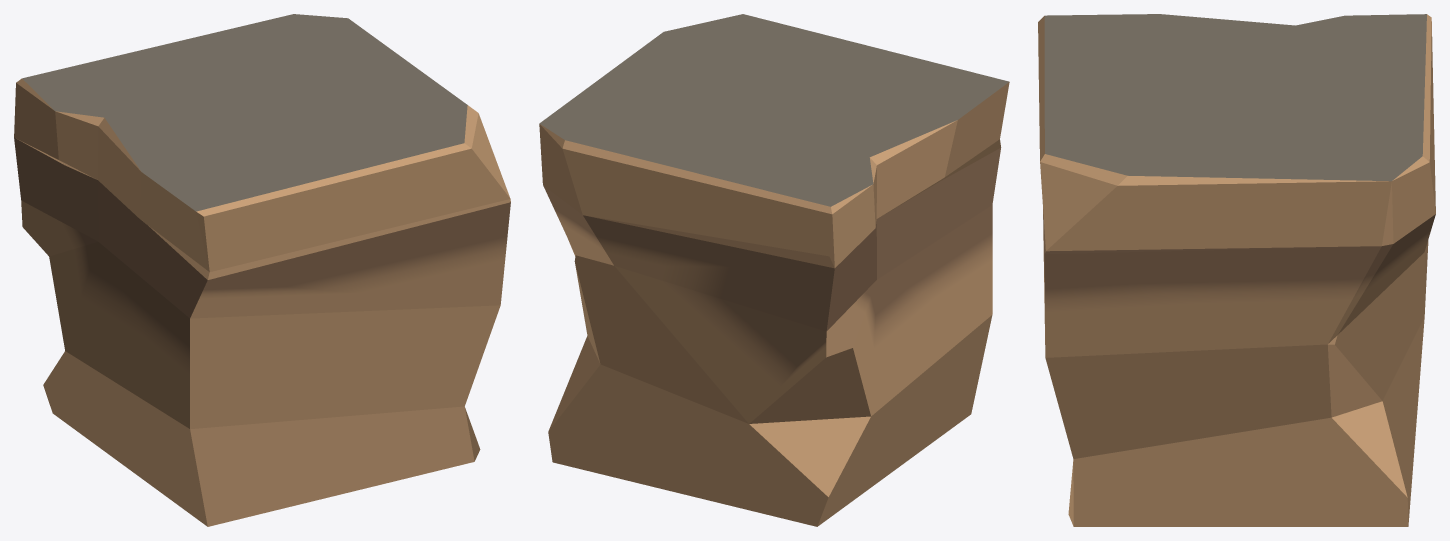
File: forest ground.fbx
The picture shows the model from 3 angles, left to right: view 1: azimuth 30°, elevation 25°; view 2: azimuth 150°, elevation 25°; view 3: azimuth 270°, elevation 25°; orthographic projection. The views are drawn at different scales.
Visible parts, largest first — view 1: cavefloor_LOD0; view 2: cavefloor_LOD0; view 3: cavefloor_LOD0.
Boxes of the visible parts, x1,y1,x2,y2 form: cavefloor_LOD0: (14, 14, 510, 526); cavefloor_LOD0: (539, 14, 1009, 526); cavefloor_LOD0: (1038, 14, 1435, 526).
Size of what is drawn, in the model's own units: 2 by 2 by 2.
